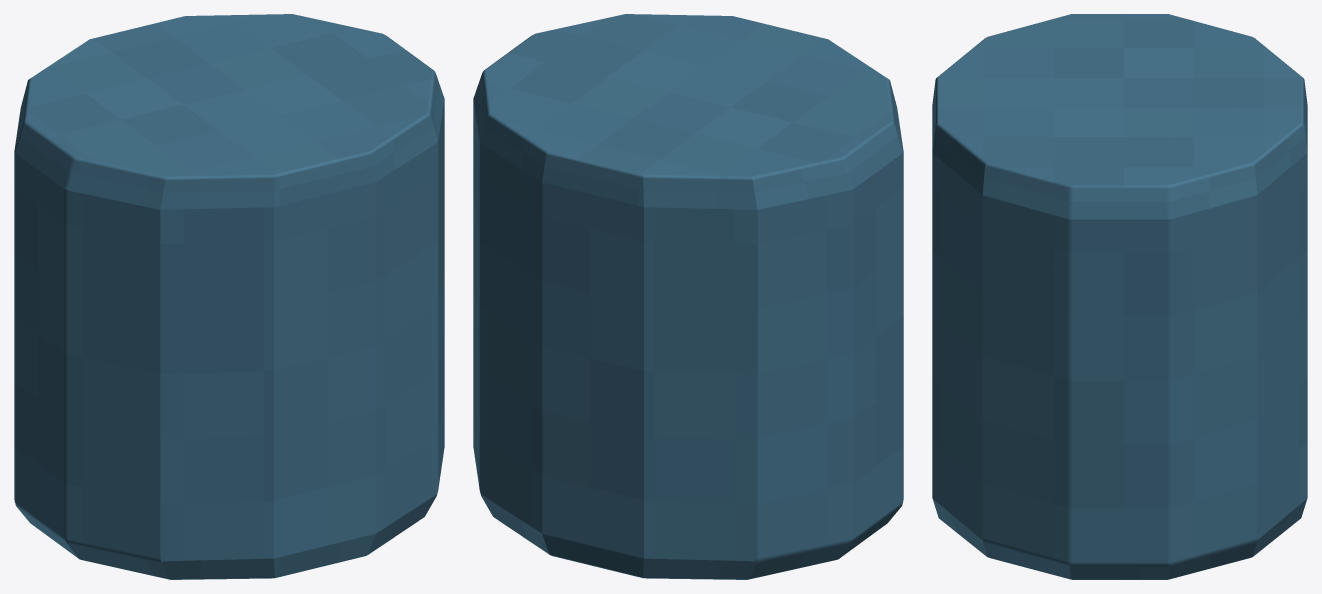
Rendered from Tin.glb.
The picture shows the model from 3 angles, left to right: view 1: azimuth 30°, elevation 25°; view 2: azimuth 150°, elevation 25°; view 3: azimuth 270°, elevation 25°; orthographic projection.
Parts seen in each view (by area): view 1: Tin; view 2: Tin; view 3: Tin.
Boxes of the visible parts, <box> form: Tin: <box>14,14,444,579</box>; Tin: <box>473,14,903,579</box>; Tin: <box>932,14,1307,579</box>.
Size of the model in its own units: 0.2395 by 0.245 by 0.2086.
Materials: 1 (1 with a texture image).
